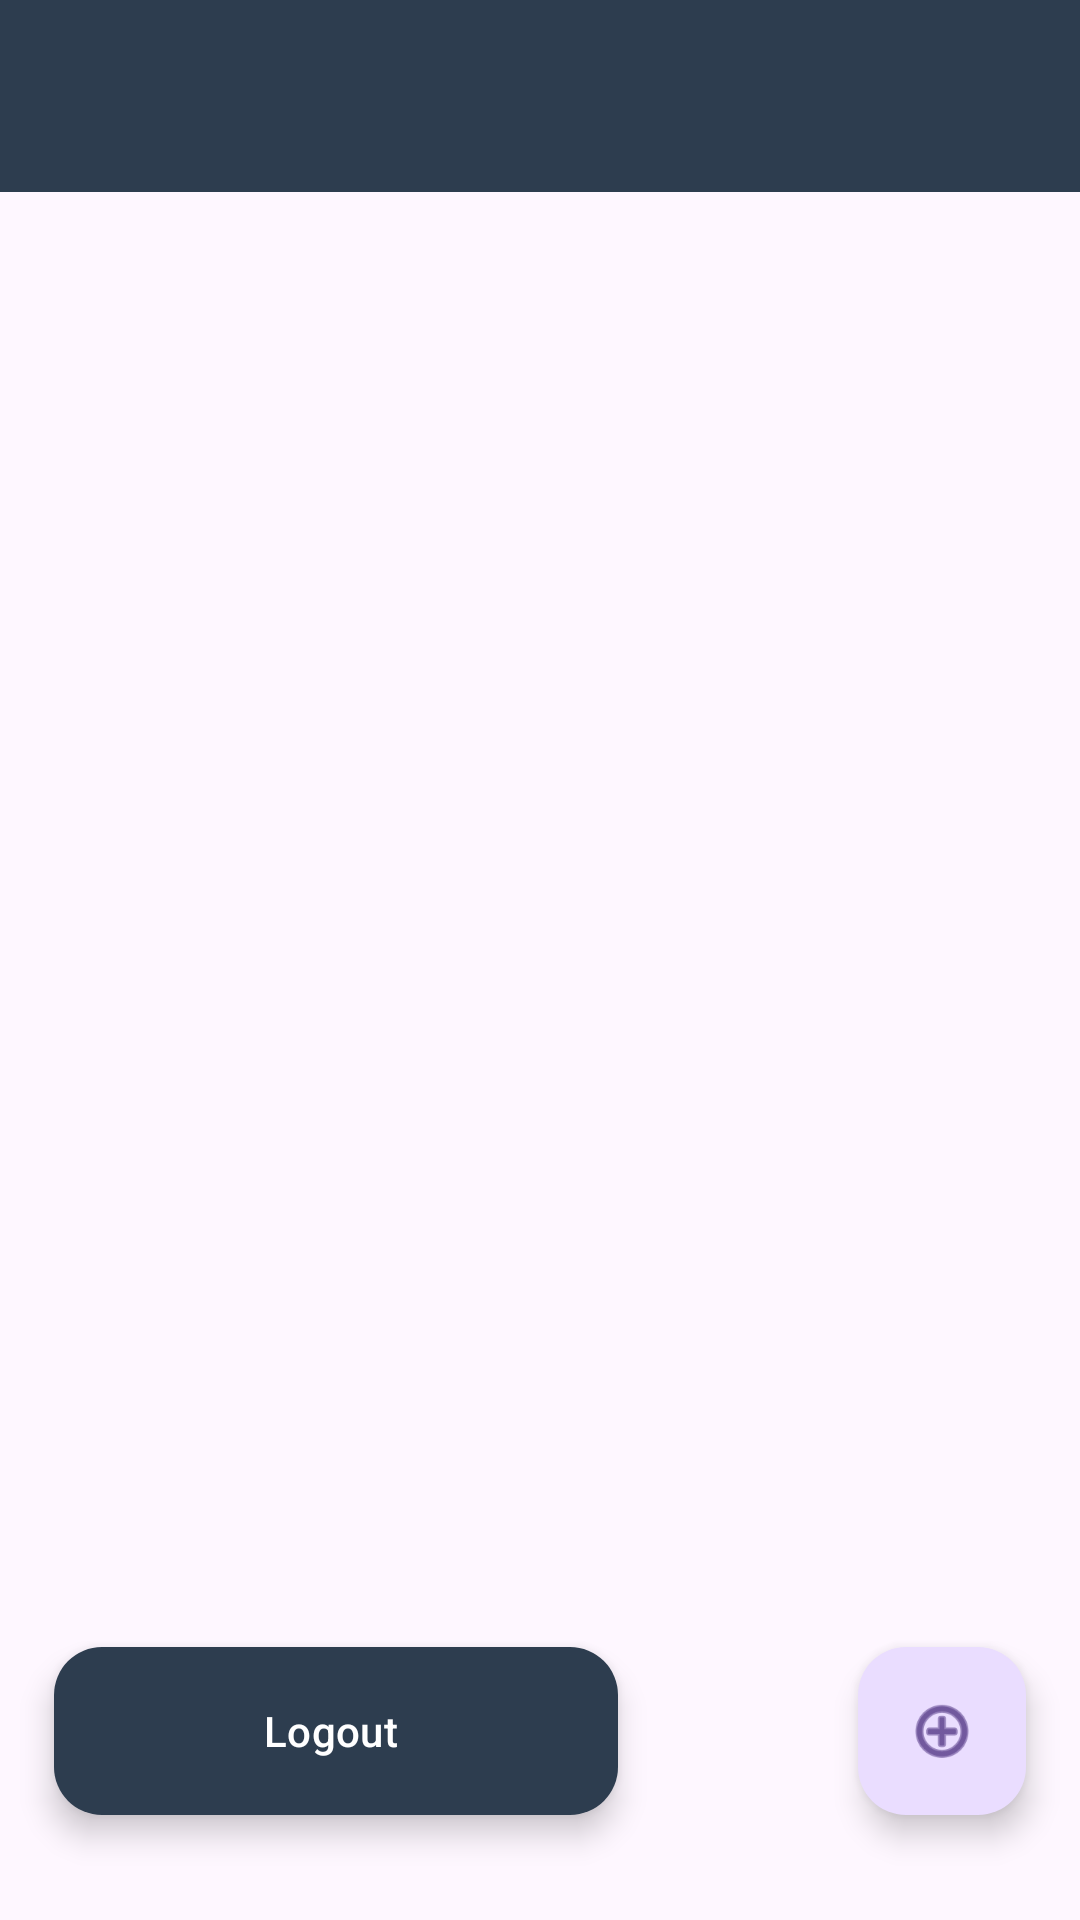

Named icons in this screenshot (1080 x 1920) and their bounding boxes, (x1, y1, x2, y2):
Add Story: (858, 1647, 1026, 1815)
